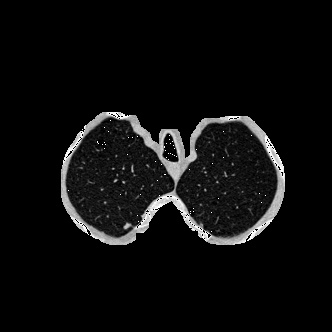PN: (124, 223, 130, 229)
